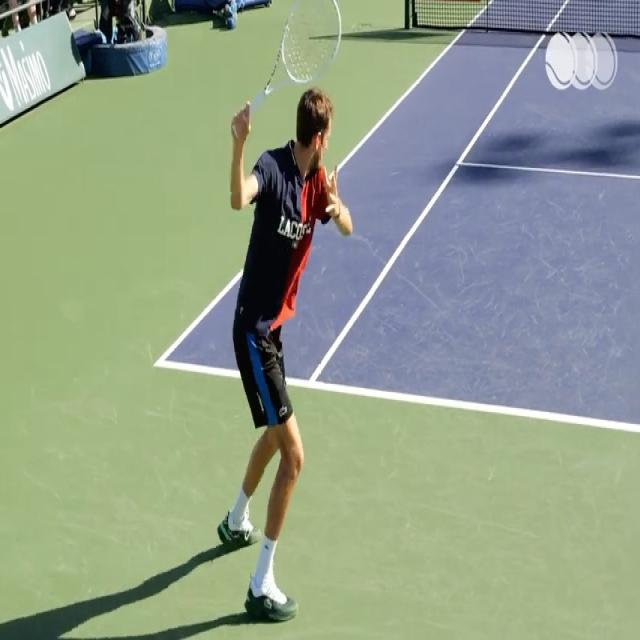forehand-ready: (202, 6, 375, 613)
